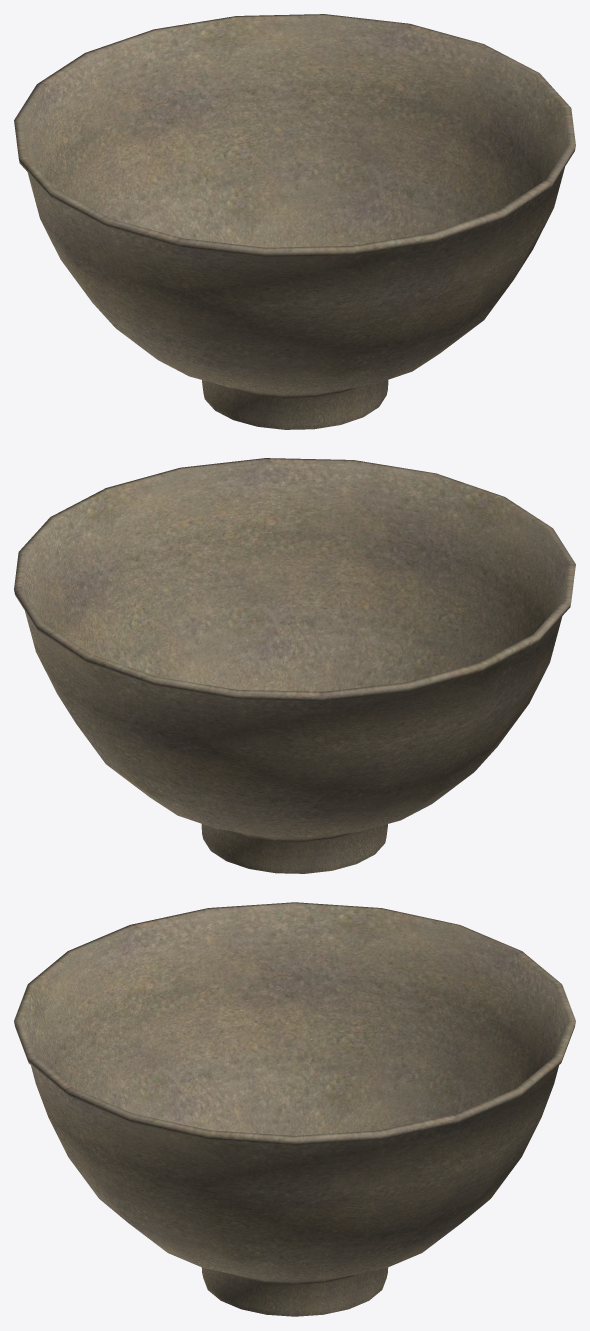
File: ricebowl_A_c01.fbx
3 views of the same model, one above another, from view 1: azimuth 30°, elevation 25°; view 2: azimuth 150°, elevation 25°; view 3: azimuth 270°, elevation 25° (orthographic).
Parts seen in each view (by area): view 1: ricebowl_A; view 2: ricebowl_A; view 3: ricebowl_A.
Boxes of the visible parts, left/top/right/bottom form: ricebowl_A: left=14, top=14, right=575, bottom=429; ricebowl_A: left=14, top=458, right=575, bottom=873; ricebowl_A: left=14, top=902, right=575, bottom=1316.
Size of the model in its own units: 11.98 by 6.06 by 11.98.
1 material, 1 textured.
